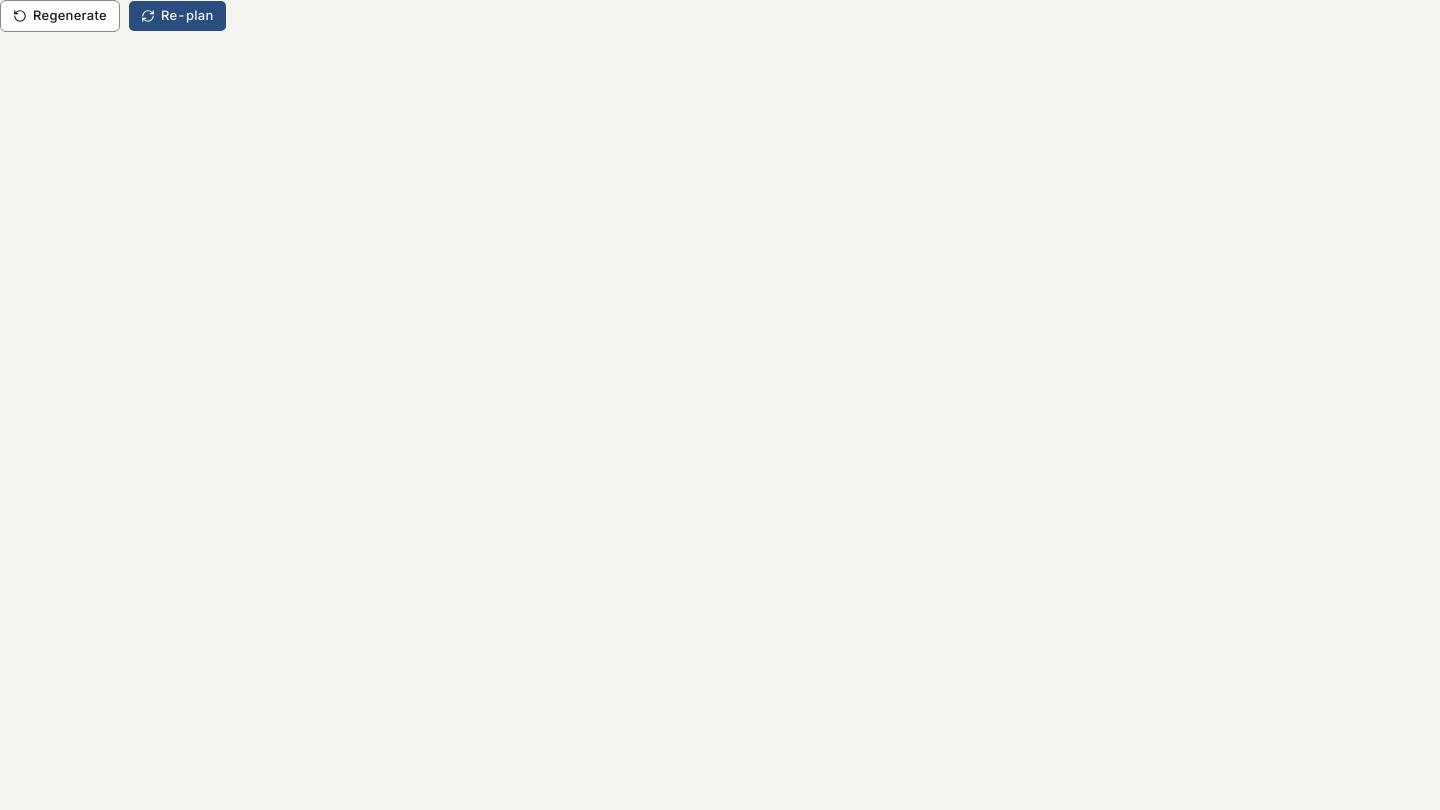
Scenario: PlanActions › confirms before regenerating and then names the plan it replaces
Later steps or results of the test are not shown.
Click the button "Regenerate" at [60, 16], box x1=0 y1=0 x2=120 y2=32
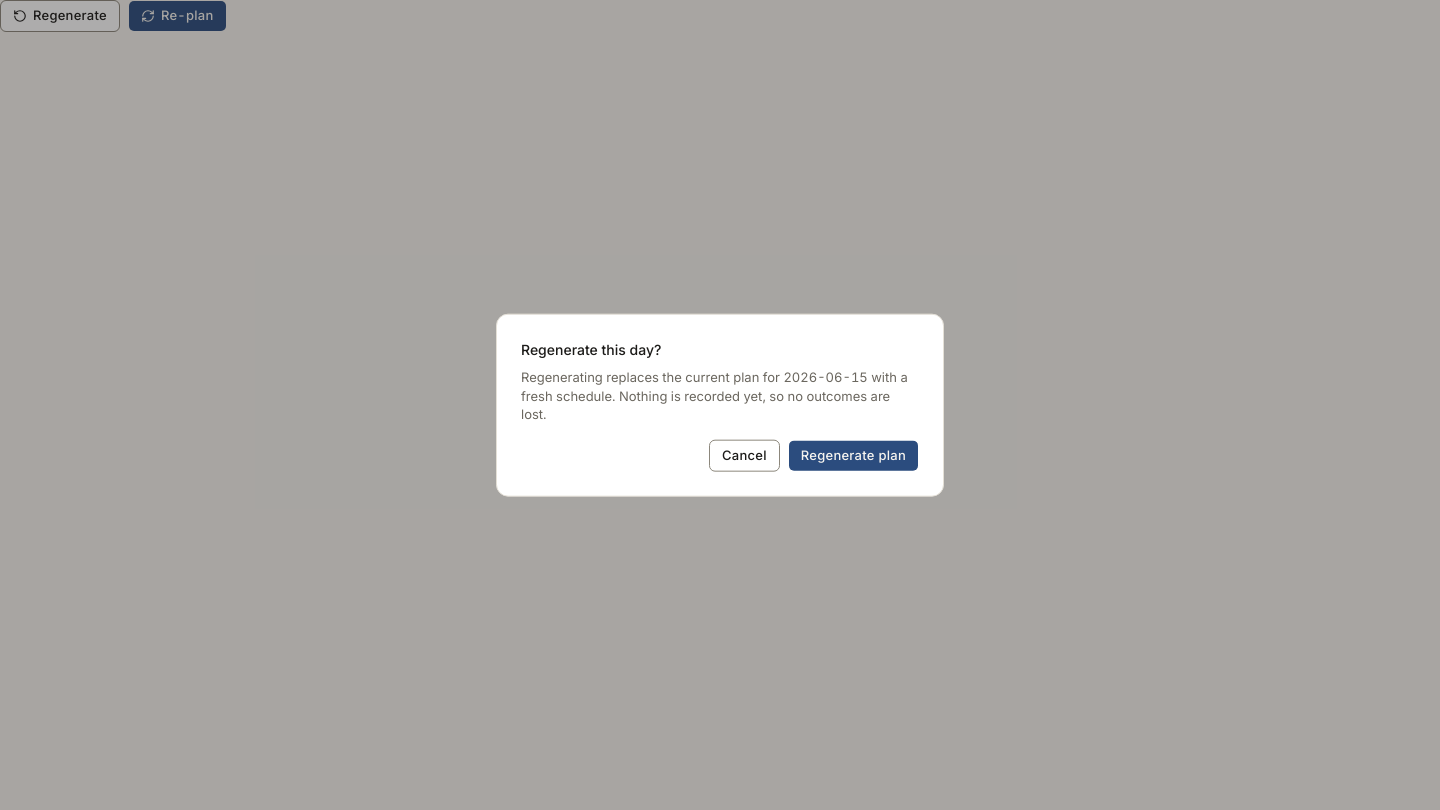
Result: the dialog "Regenerate this day" shows "replaces the current plan" at x1=521 y1=369 x2=783 y2=385
